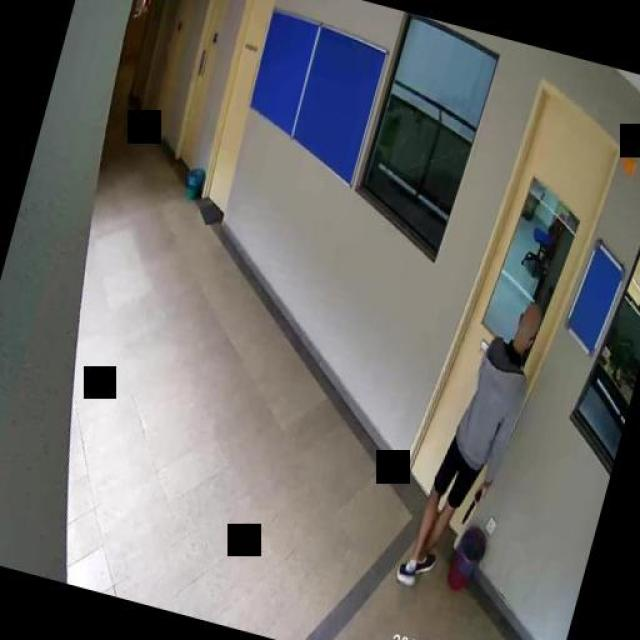gun: (460, 480, 486, 525)
